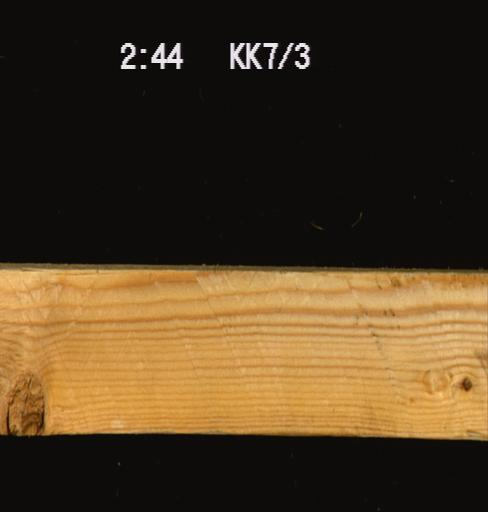dry_knot: (456, 369, 475, 395)
edge_knot: (0, 367, 47, 433)
